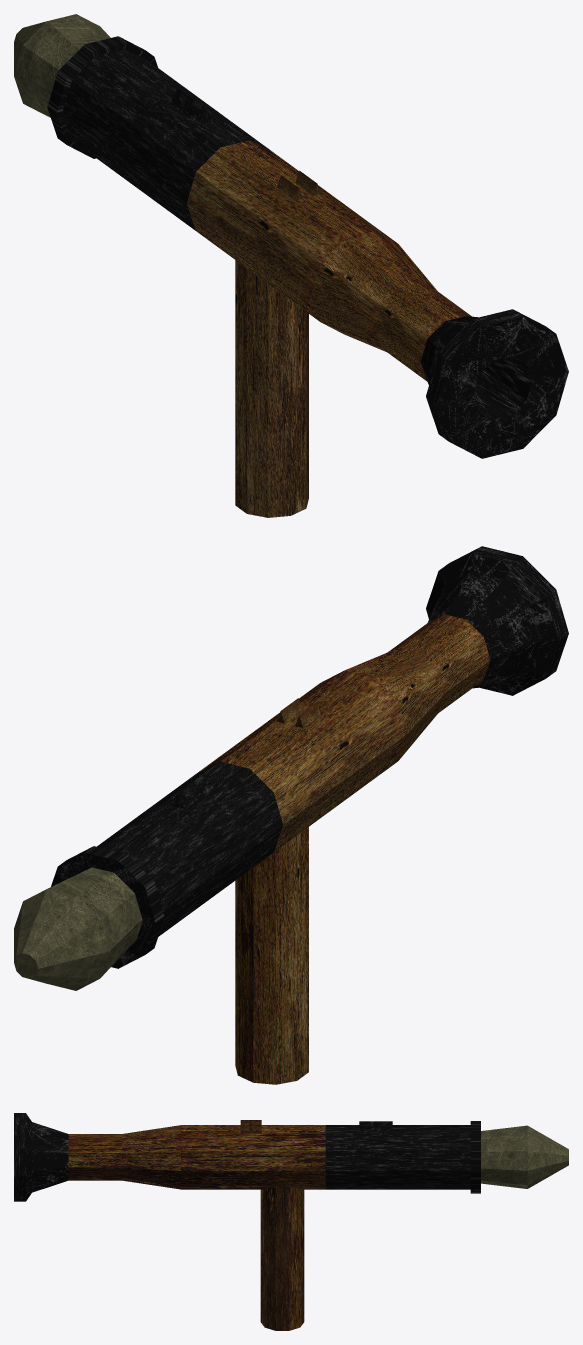
Rendered from rpg.glb.
3 renders of one model, top to bottom at view 1: azimuth 30°, elevation 25°; view 2: azimuth 150°, elevation 25°; view 3: azimuth 270°, elevation 25°, orthographic. The views are drawn at different scales.
Visible parts, largest first — view 1: rpg, projectile; view 2: rpg, projectile; view 3: rpg, projectile.
Boxes of the visible parts, x1,y1,x2,y2 form: rpg: [47, 36, 568, 517]; projectile: [14, 14, 110, 117]; rpg: [51, 546, 568, 1084]; projectile: [14, 867, 142, 990]; rpg: [14, 1113, 480, 1330]; projectile: [481, 1125, 568, 1188].
Size of the model in its own units: 2.75 by 6.92 by 17.12.
Materials: 4 (3 with a texture image).
